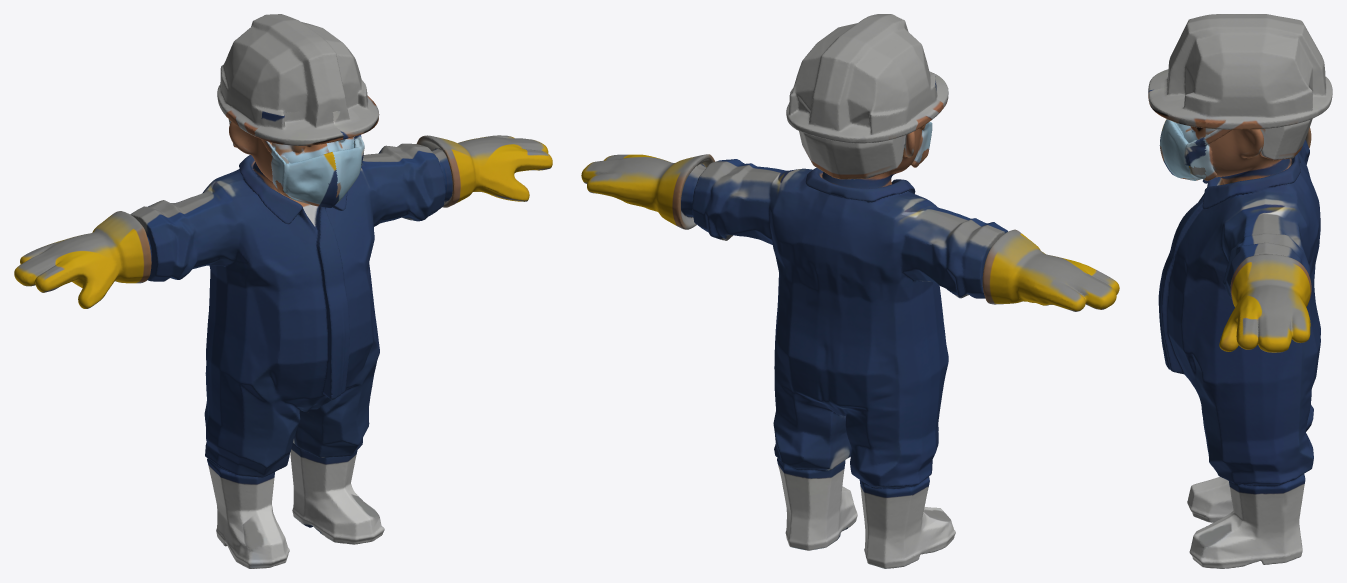
File: construction_clean.glb
3 renders of one model, left to right at view 1: azimuth 30°, elevation 25°; view 2: azimuth 150°, elevation 25°; view 3: azimuth 270°, elevation 25°, orthographic.
Parts seen in each view (by area): view 1: tripo_node_61e2e27e-1a95-406e-ae20-b8911742b16e; view 2: tripo_node_61e2e27e-1a95-406e-ae20-b8911742b16e; view 3: tripo_node_61e2e27e-1a95-406e-ae20-b8911742b16e.
Boxes of the visible parts, bbox=[...] form: tripo_node_61e2e27e-1a95-406e-ae20-b8911742b16e: bbox=[14, 14, 552, 568]; tripo_node_61e2e27e-1a95-406e-ae20-b8911742b16e: bbox=[581, 14, 1119, 568]; tripo_node_61e2e27e-1a95-406e-ae20-b8911742b16e: bbox=[1148, 14, 1332, 568].
Size of the model in its own units: 1.72 by 1.58 by 0.5112.
1 material, 1 textured.
